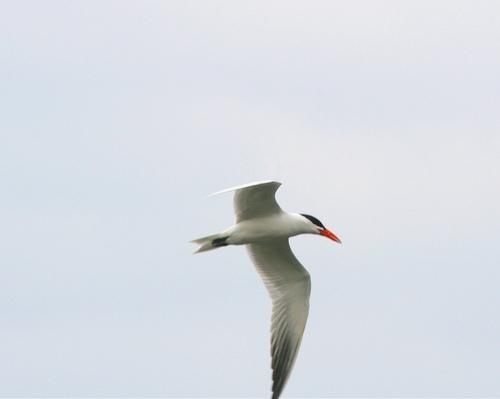bird: (194, 178, 329, 398)
